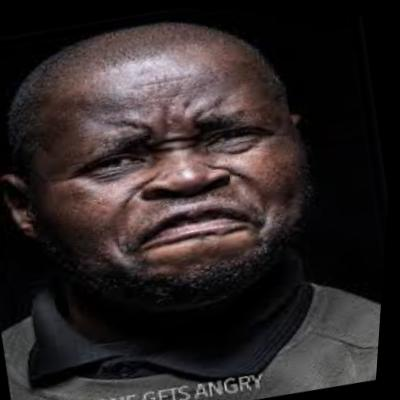sad: (0, 5, 339, 327)
